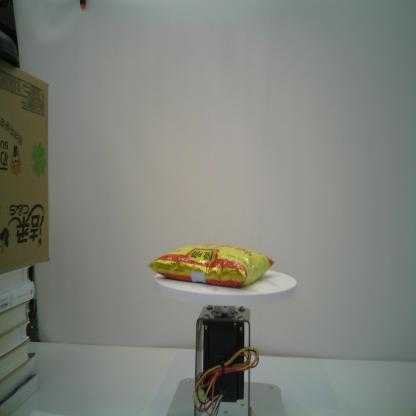Seasoner: (147, 244, 276, 288)
